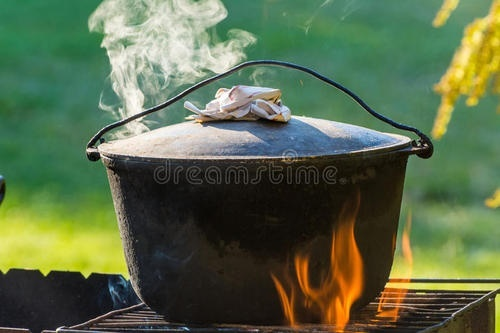fire: (268, 192, 383, 332), (428, 0, 500, 143)
